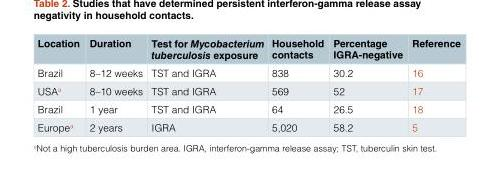table: (36, 36, 459, 133)
table column: (146, 36, 267, 133), (327, 36, 406, 133), (83, 36, 146, 133), (267, 36, 327, 133), (406, 36, 459, 133), (36, 36, 83, 133)
table column header: (36, 36, 459, 63)
table row: (36, 36, 459, 63), (36, 63, 459, 81), (36, 81, 459, 99), (36, 99, 459, 117), (36, 117, 459, 133)
